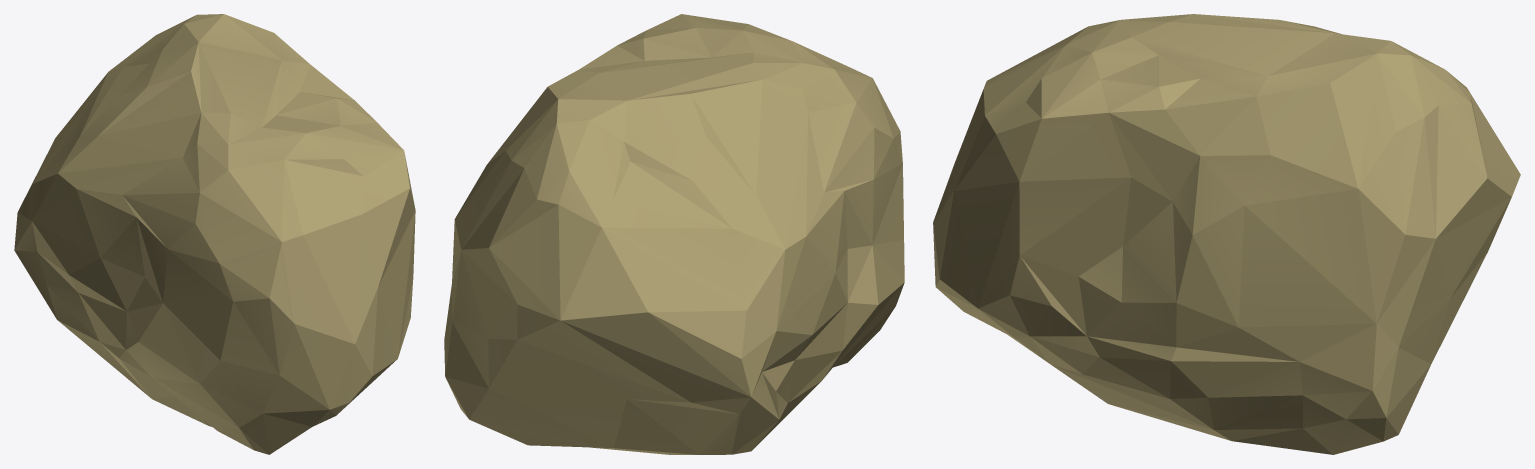
File: SM_rock_11.fbx
The picture shows the model from 3 angles, left to right: view 1: azimuth 30°, elevation 25°; view 2: azimuth 150°, elevation 25°; view 3: azimuth 270°, elevation 25°; orthographic projection. The views are drawn at different scales.
Parts seen in each view (by area): view 1: rock_11; view 2: rock_11; view 3: rock_11.
Boxes of the visible parts, x1,y1,x2,y2 form: rock_11: (14, 14, 415, 454); rock_11: (444, 14, 904, 454); rock_11: (933, 14, 1520, 454).
Size of the model in its own units: 165 by 171 by 245.
